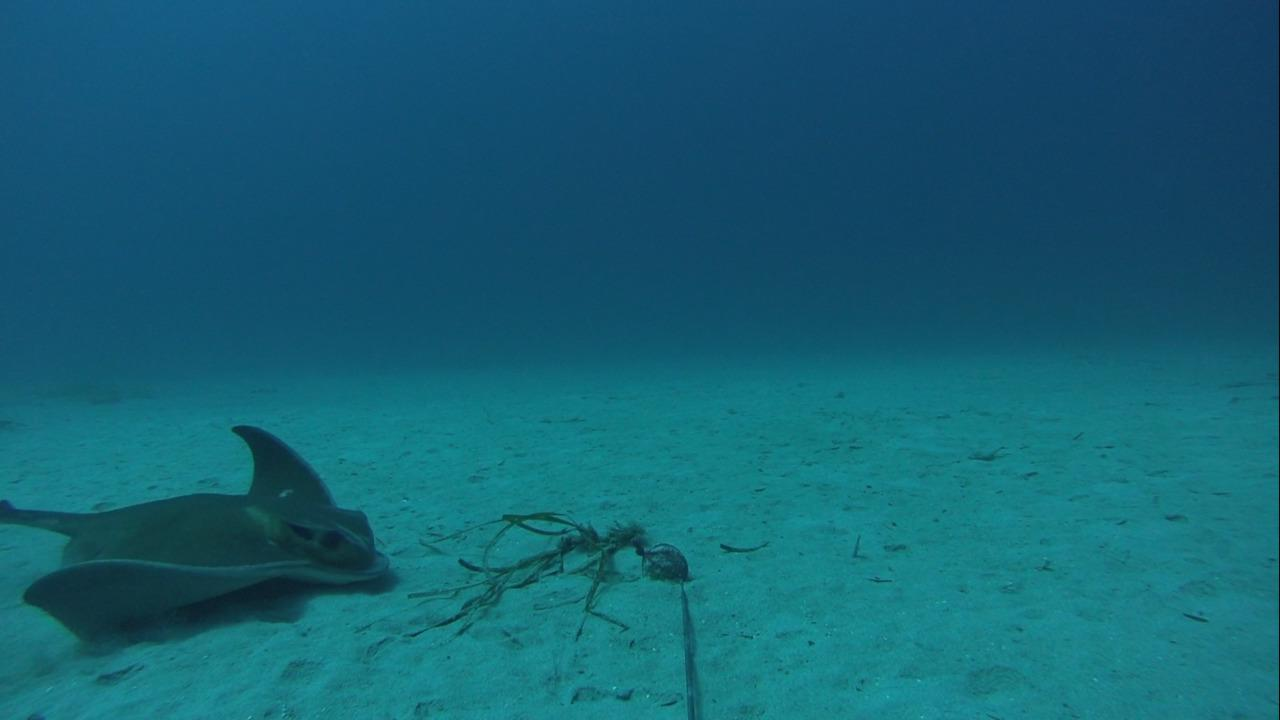myliobatis: (3, 421, 397, 653)
